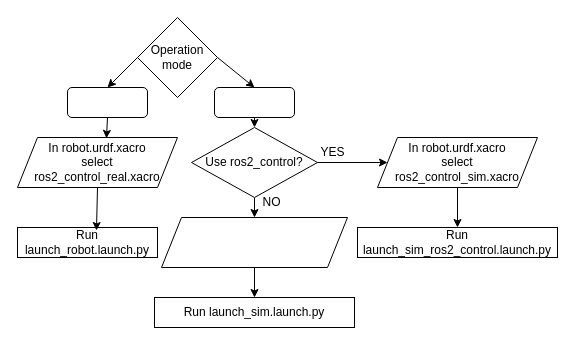
Image size: 575x345. Some labels were removed from this diagram. The centre of each missing label's shape, as x and y in pixels:
In robot.urdf.xacro select gazebo_control.xacro: (254,242)
Real robot: (107,102)
Simulation: (254,102)
